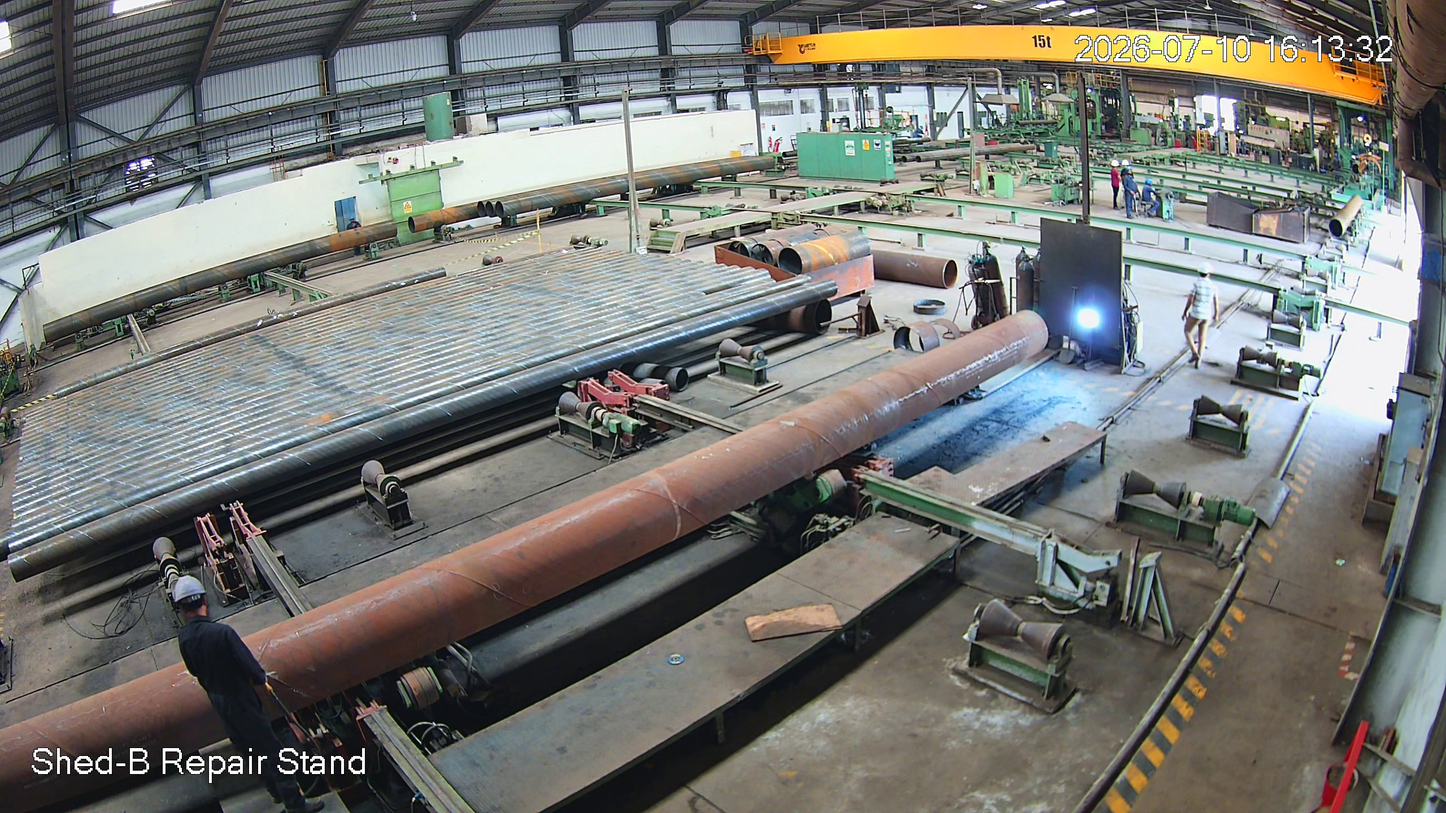Helmet: (169, 568, 229, 644), (1193, 258, 1217, 293)
Person: (162, 571, 301, 813), (1184, 262, 1221, 373)
